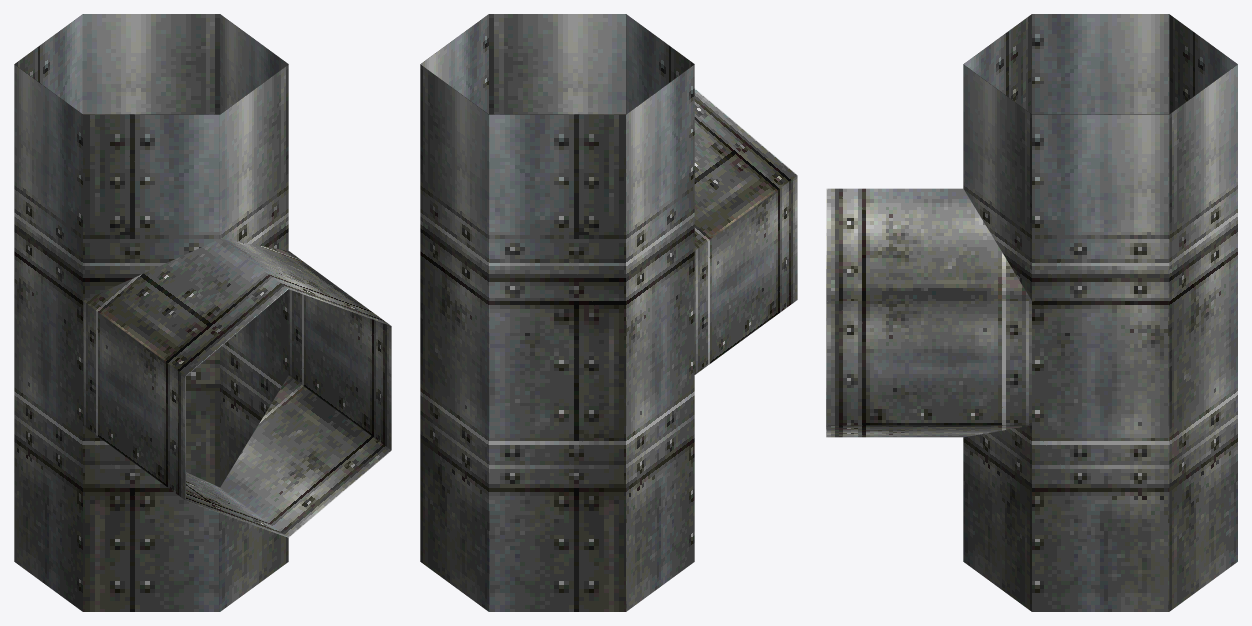
Rendered from pipe_intersection_T.glb.
3 renders of one model, left to right at view 1: azimuth 30°, elevation 25°; view 2: azimuth 150°, elevation 25°; view 3: azimuth 270°, elevation 25°, orthographic.
Parts seen in each view (by area): view 1: pipe_intersection_T; view 2: pipe_intersection_T; view 3: pipe_intersection_T.
Boxes of the visible parts, x1=… form: pipe_intersection_T: x1=14, y1=14, x2=391, y2=611; pipe_intersection_T: x1=420, y1=14, x2=797, y2=611; pipe_intersection_T: x1=826, y1=14, x2=1237, y2=611.
Bounding box in the file's own units: 0.433 × 1 × 0.75.
1 material, 1 textured.
